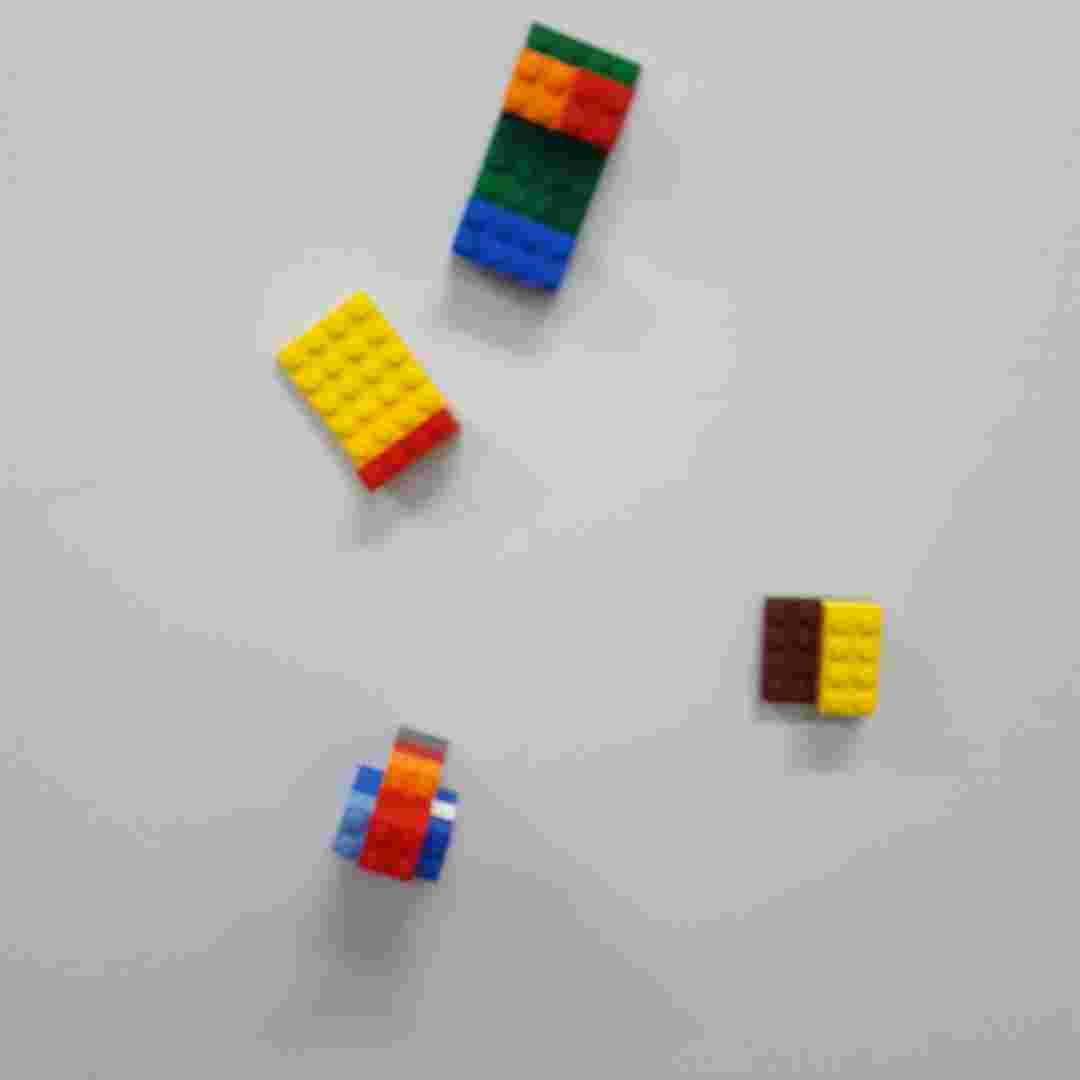LEGO: (448, 20, 646, 299), (268, 285, 465, 496), (332, 722, 462, 891), (757, 591, 884, 720)
